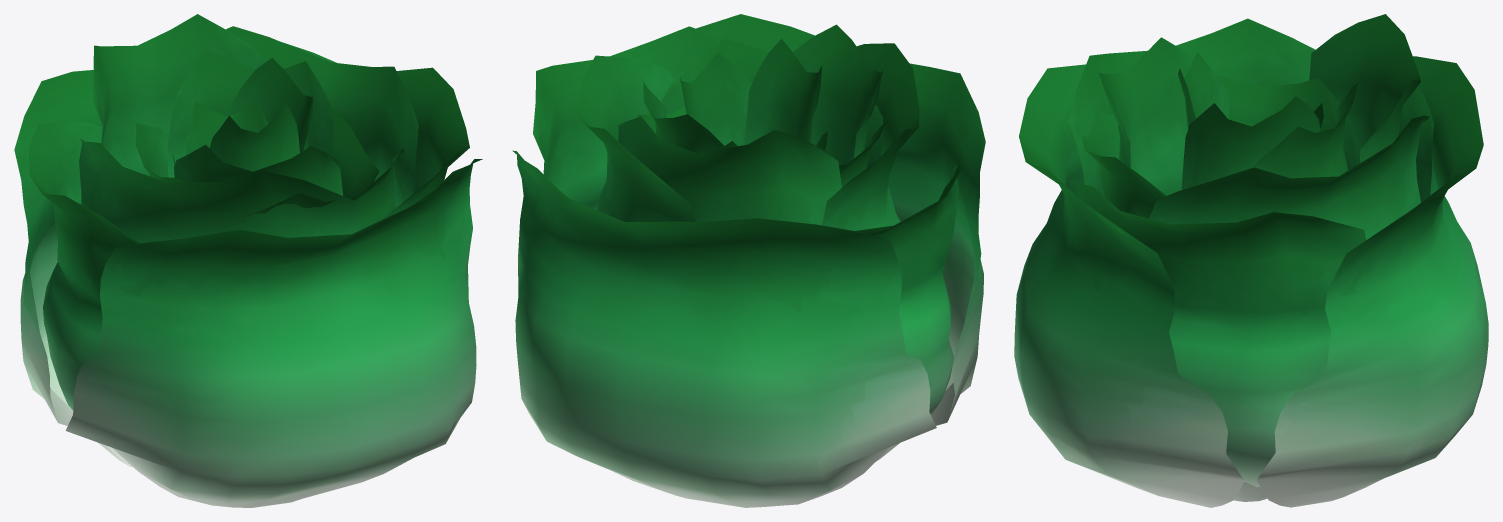
Rendered from Veg_lettuce_L.fbx.
The picture shows the model from 3 angles, left to right: view 1: azimuth 30°, elevation 25°; view 2: azimuth 150°, elevation 25°; view 3: azimuth 270°, elevation 25°; orthographic projection. The views are drawn at different scales.
Visible parts, largest first — view 1: Plane.001; view 2: Plane.001; view 3: Plane.001.
Part boxes in pixels (x1,y1,x2,y2): Plane.001: (14,14,482,507); Plane.001: (512,14,985,507); Plane.001: (1014,14,1488,507).
Bounding box in the file's own units: 26.71 × 26.75 × 25.18.
